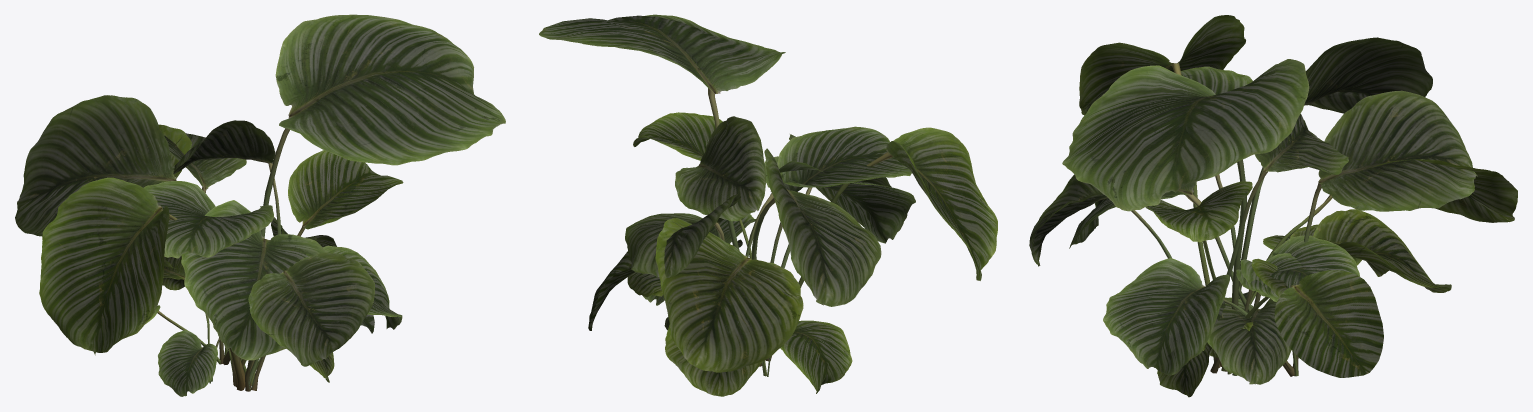
File: calathea_orbifolia_01_LOD1.fbx
3 views of the same model, side by side, from view 1: azimuth 30°, elevation 25°; view 2: azimuth 150°, elevation 25°; view 3: azimuth 270°, elevation 25° (orthographic). The views are drawn at different scales.
Visible parts, largest first — view 1: calathea_orbifolia_01_a.001, calathea_orbifolia_01_b.001, calathea_orbifolia_01_c.001, calathea_orbifolia_01_d.001, calathea_orbifolia_01_e.001; view 2: calathea_orbifolia_01_a.001, calathea_orbifolia_01_b.001, calathea_orbifolia_01_c.001; view 3: calathea_orbifolia_01_a.001, calathea_orbifolia_01_b.001, calathea_orbifolia_01_c.001, calathea_orbifolia_01_d.001, calathea_orbifolia_01_e.001.
Boxes of the visible parts, x1,y1,x2,y2 form: calathea_orbifolia_01_a.001: (15,14,505,391); calathea_orbifolia_01_b.001: (94,133,402,364); calathea_orbifolia_01_c.001: (144,150,403,386); calathea_orbifolia_01_d.001: (158,272,220,396); calathea_orbifolia_01_e.001: (163,255,334,386); calathea_orbifolia_01_a.001: (539,14,997,372); calathea_orbifolia_01_b.001: (625,156,915,393); calathea_orbifolia_01_c.001: (633,112,912,396); calathea_orbifolia_01_a.001: (1029,15,1517,377); calathea_orbifolia_01_b.001: (1069,90,1477,376); calathea_orbifolia_01_c.001: (1145,66,1451,358); calathea_orbifolia_01_d.001: (1207,291,1291,384); calathea_orbifolia_01_e.001: (1157,224,1388,397).
Size of the model in its own units: 0.6006 by 0.4244 by 0.5256.
Materials: 1 (1 with a texture image).
